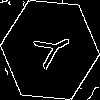Y: (25, 25, 75, 75)
